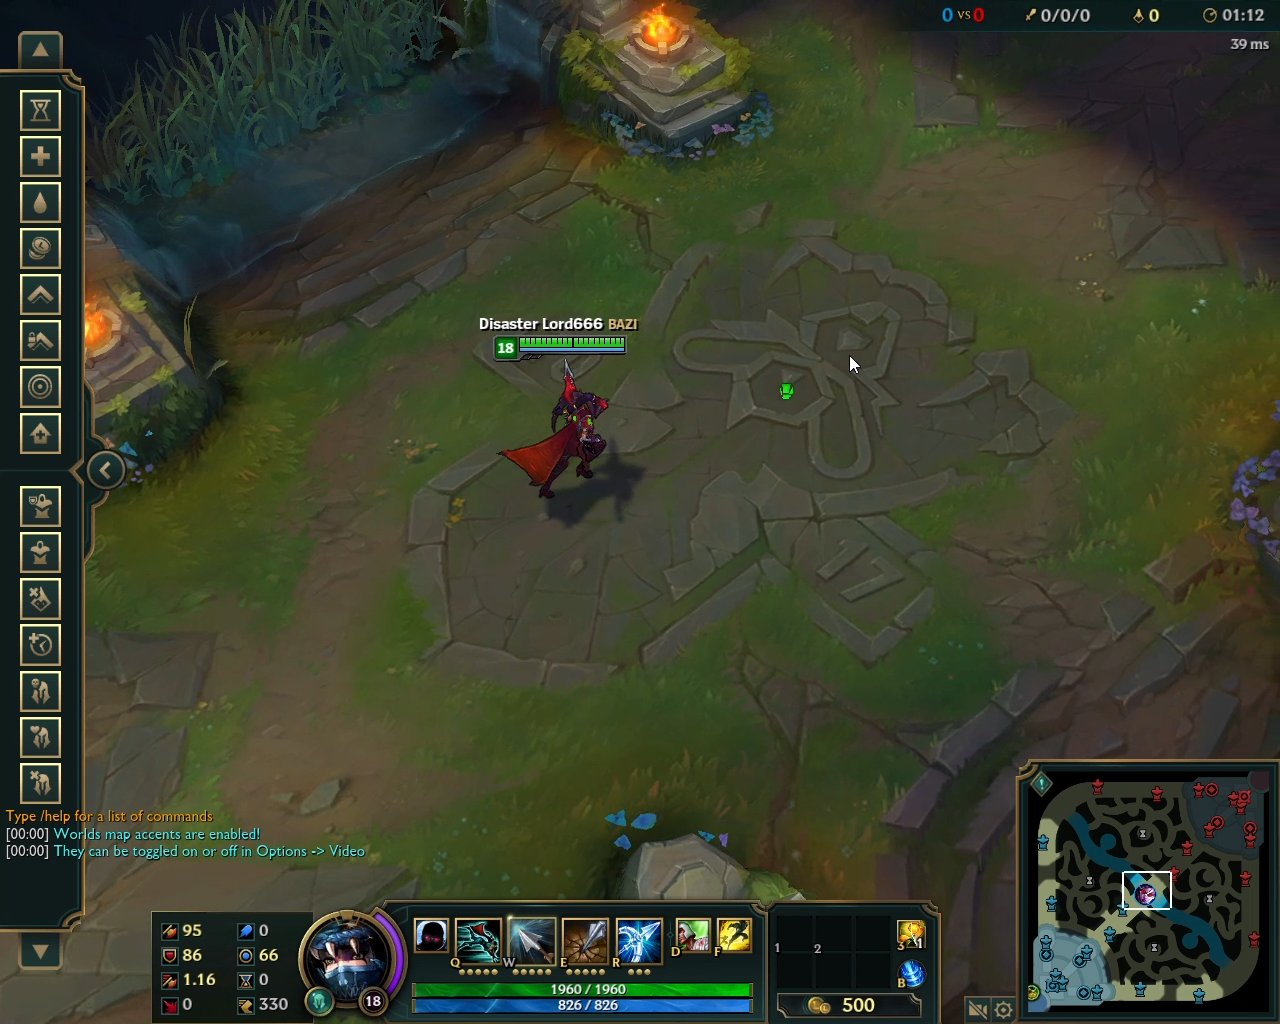Vayne: (495, 355, 621, 506)
